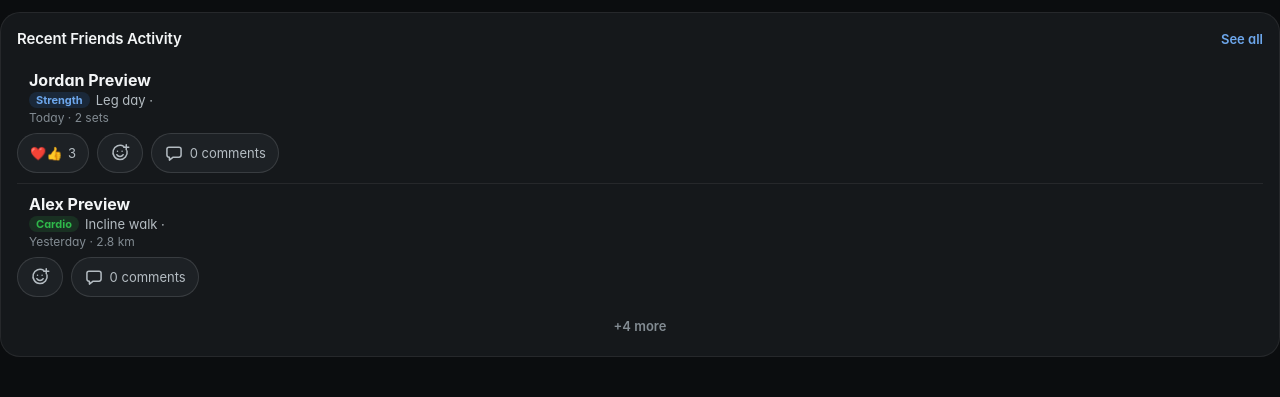
keeps existing rows after a failed expansion and allows retry
What coordinates should you click on to do the following:
click the button with class "friends-activity-more"
I would click on:
 (640, 326)
Its box is [602,313,678,340].
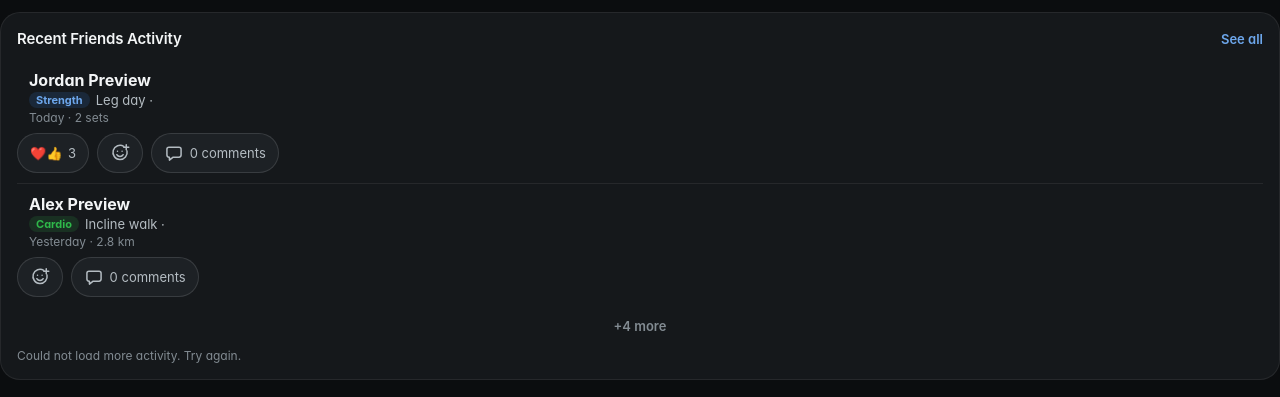
Check: the number of list items is 2, box [17,60,1263,183]; [17,183,1263,307]
Check: the message "Could not load more activity. Try again." is shown, box [17,348,241,363]
What coordinates should you click on to do the following:
click the button with class "friends-activity-more"
I would click on:
 (640, 326)
Its box is [602,313,678,340].
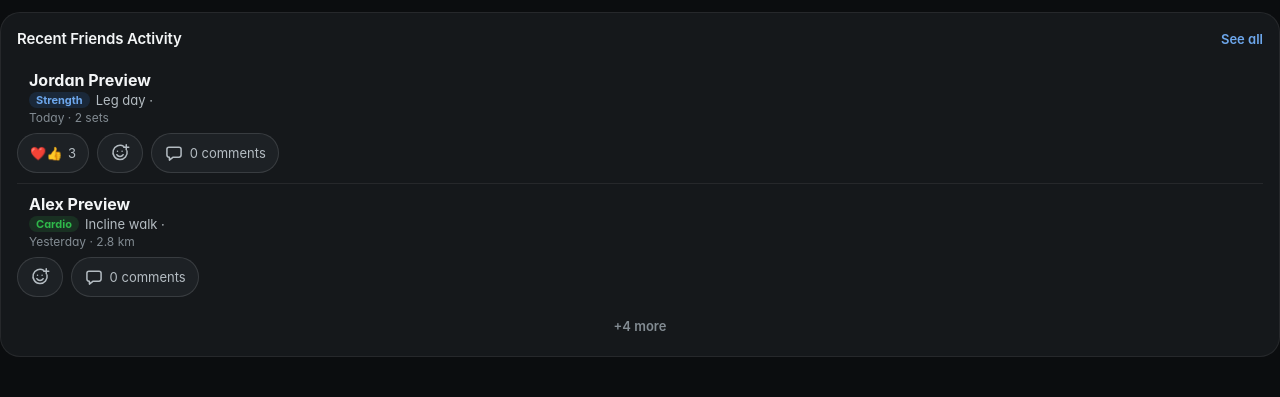
Check: the message "Could not load more activity. Try again." is gone
